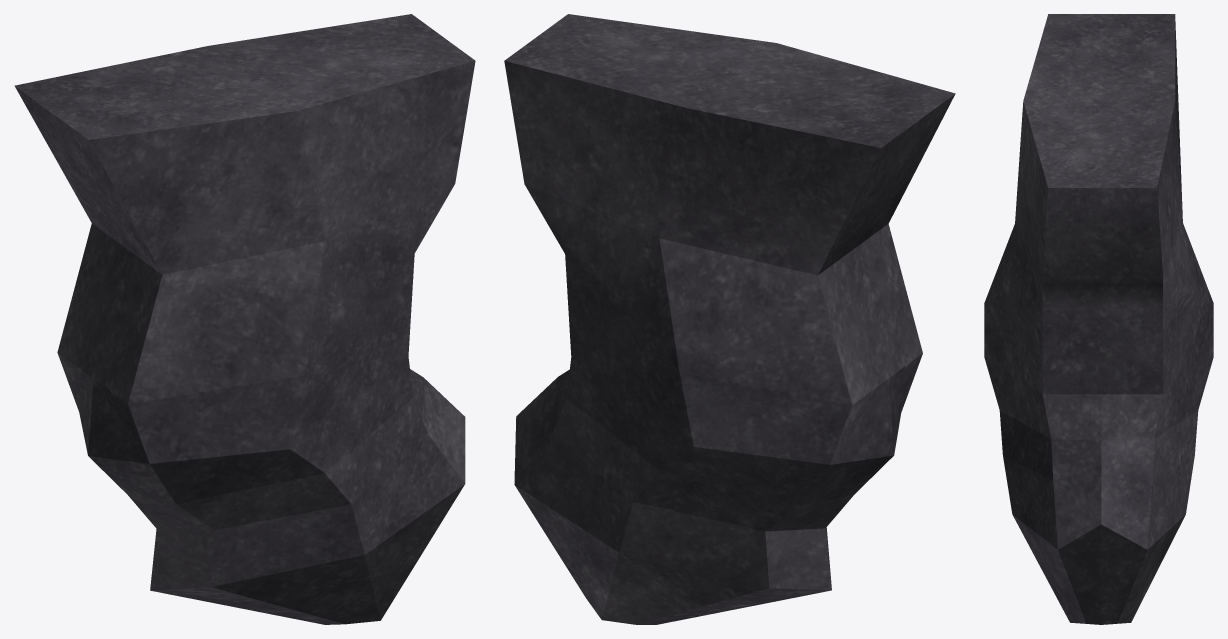
The model's file is generic grip.fbx.
The picture shows the model from 3 angles, left to right: view 1: azimuth 30°, elevation 25°; view 2: azimuth 150°, elevation 25°; view 3: azimuth 270°, elevation 25°; orthographic projection. The views are drawn at different scales.
Visible parts, largest first — view 1: Genric Grip; view 2: Genric Grip; view 3: Genric Grip.
Part boxes in pixels (bbox=[...]): Genric Grip: bbox=[14, 14, 475, 624]; Genric Grip: bbox=[504, 14, 955, 624]; Genric Grip: bbox=[984, 14, 1213, 624].
Size of the model in its own units: 51.47 by 69.13 by 29.36.
